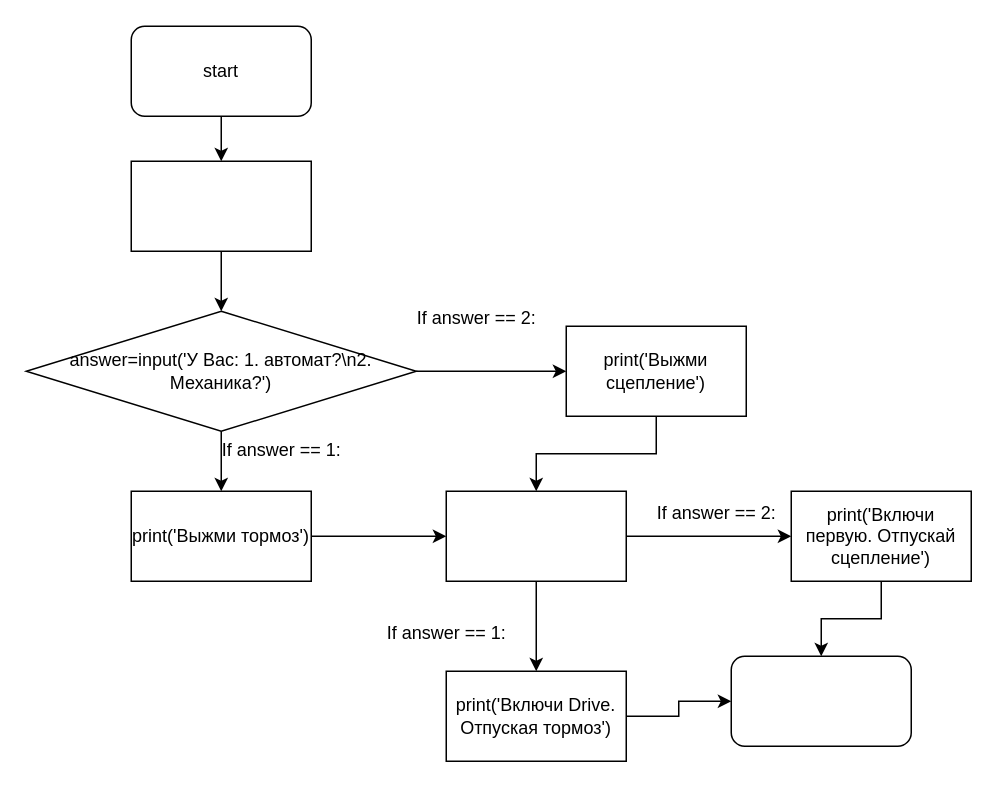
Image size: 998x788. Some labels were removed from this diagram. The shapes that lost their labels are listed below. From the top down, each one's centre as x and y in pixels, then its label:
At (x=220, y=205): "print('Открыть машину')".
At (x=535, y=535): "ptint('Поверни ключ')".
At (x=820, y=700): "print('Ты едешь')".
